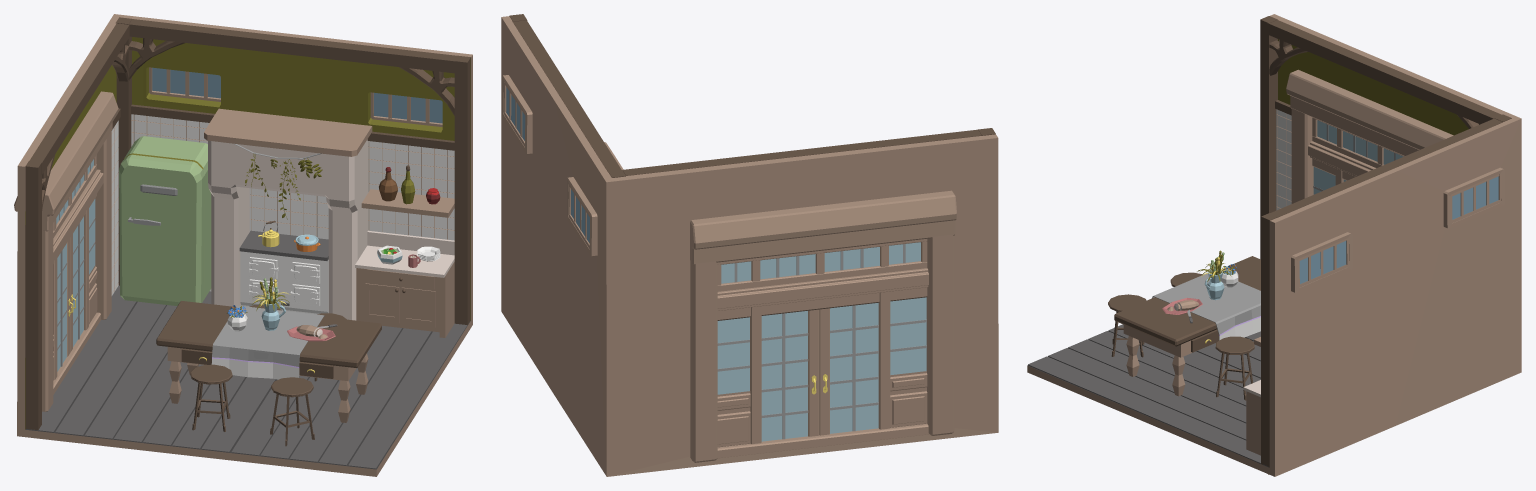
The model's file is Room_4_Kitchen.fbx.
The picture shows the model from 3 angles, left to right: view 1: azimuth 30°, elevation 25°; view 2: azimuth 150°, elevation 25°; view 3: azimuth 270°, elevation 25°; orthographic projection. The views are drawn at different scales.
Parts seen in each view (by area): view 1: Room_4_Boards_1, Room_4_Base, Room_4_Recess, Room_4_Door, Room_4_Fridge_1, Room_4_Beams_1, Room_4_Tiles_1, Room_4_Cabinet_1, Room_4_Table, Room_4_Stove, Room_4_Tablecloth, Room_4_Beam_1 (+9 smaller); view 2: Room_4_Base, Room_4_Door, Room_4_Beam_2, Room_4_Beams_1, Room_4_Window_2, Room_4_Window_1; view 3: Room_4_Base, Room_4_Boards_1, Room_4_Door, Room_4_Table, Room_4_Beam_2, Room_4_Beams_1, Room_4_Tablecloth, Room_4_Beam_1, Room_4_Window_1, Room_4_Window_2, Room_4_Tiles_3, Room_4_Stool_4 (+4 smaller).
Part boxes in pixels (box(x1,y1,x2,y2)): Room_4_Boards_1: box(26, 285, 470, 469); Room_4_Base: box(17, 14, 472, 476); Room_4_Recess: box(204, 108, 372, 320); Room_4_Door: box(14, 91, 118, 411); Room_4_Fridge_1: box(119, 136, 211, 305); Room_4_Beams_1: box(116, 17, 470, 325); Room_4_Tiles_1: box(131, 114, 454, 291); Room_4_Cabinet_1: box(355, 230, 454, 337); Room_4_Table: box(156, 301, 381, 422); Room_4_Stove: box(239, 230, 328, 314); Room_4_Tablecloth: box(211, 305, 324, 379); Room_4_Beam_1: box(25, 161, 41, 430); Room_4_Base: box(501, 16, 998, 476); Room_4_Door: box(690, 190, 956, 462); Room_4_Beam_2: box(622, 129, 981, 175); Room_4_Beams_1: box(509, 14, 625, 177); Room_4_Window_2: box(502, 75, 532, 154); Room_4_Window_1: box(567, 177, 597, 256); Room_4_Base: box(1027, 14, 1521, 476); Room_4_Boards_1: box(1028, 324, 1268, 467); Room_4_Door: box(1286, 69, 1453, 203); Room_4_Table: box(1114, 256, 1260, 396); Room_4_Beam_2: box(1267, 20, 1501, 124); Room_4_Beams_1: box(1261, 114, 1511, 467); Room_4_Tablecloth: box(1152, 273, 1260, 340); Room_4_Beam_1: box(1260, 16, 1277, 259); Room_4_Window_1: box(1443, 167, 1504, 229); Room_4_Window_2: box(1291, 232, 1352, 293); Room_4_Tiles_3: box(1276, 109, 1291, 210); Room_4_Stool_4: box(1215, 336, 1254, 400).
Bounding box in the file's own units: 707 × 707 × 403.
